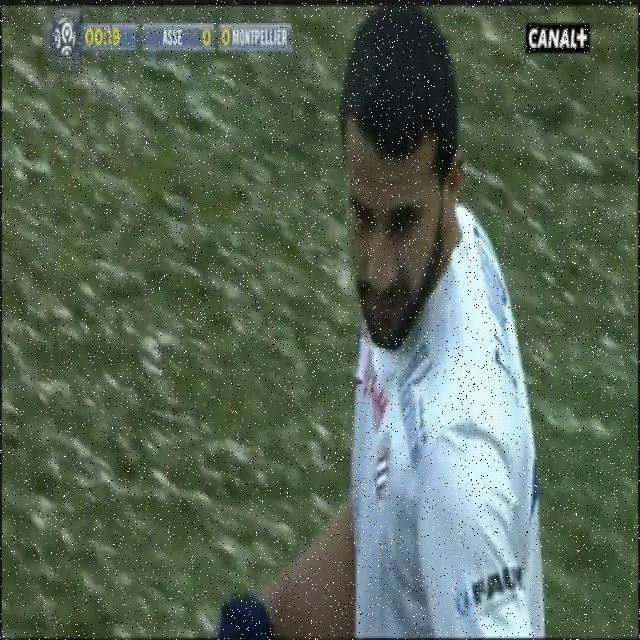player: (259, 23, 579, 640)
